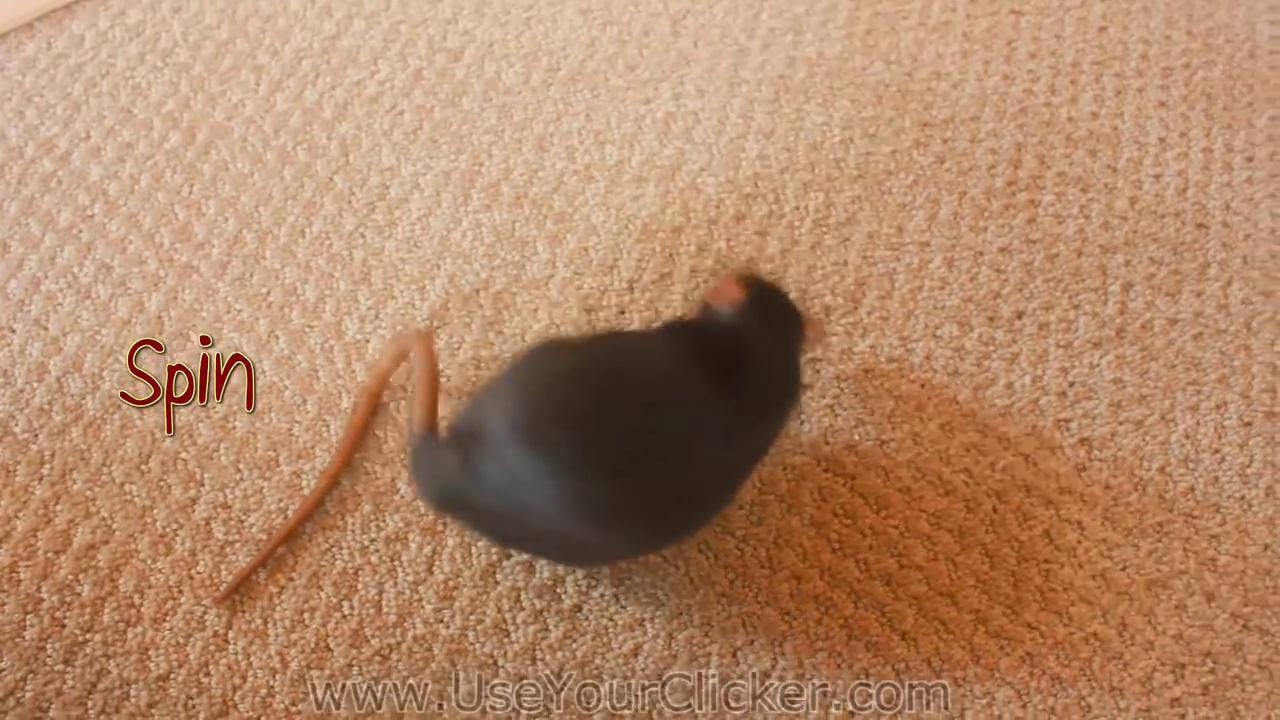rat: (206, 276, 824, 604)
